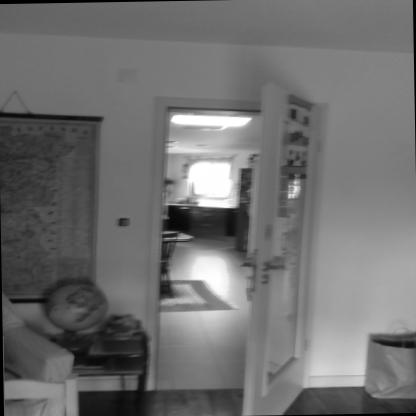semi: (125, 79, 305, 406)
